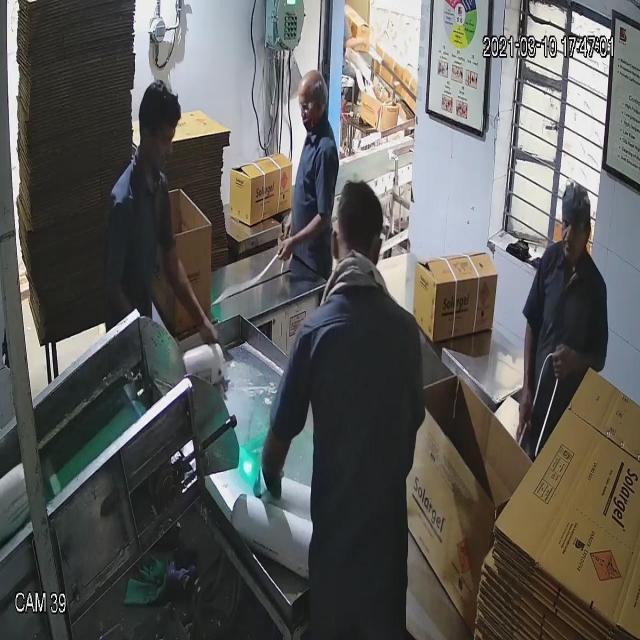No_Gloves: (24, 57, 570, 370)
